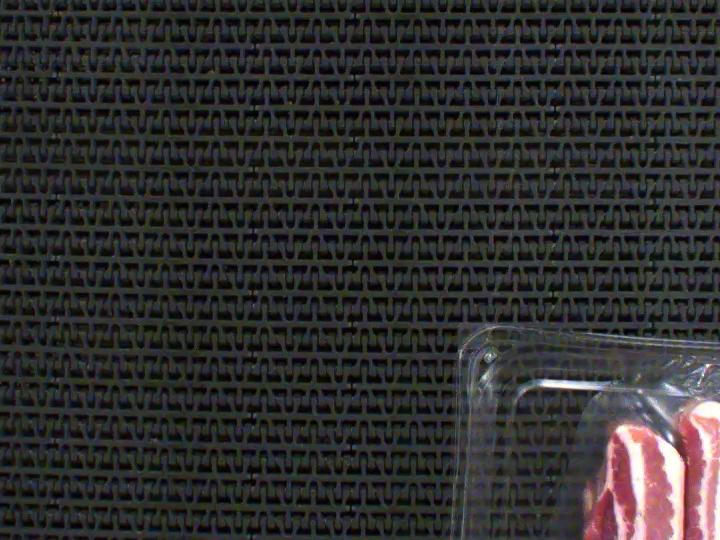unsealed: (545, 342, 720, 540)
